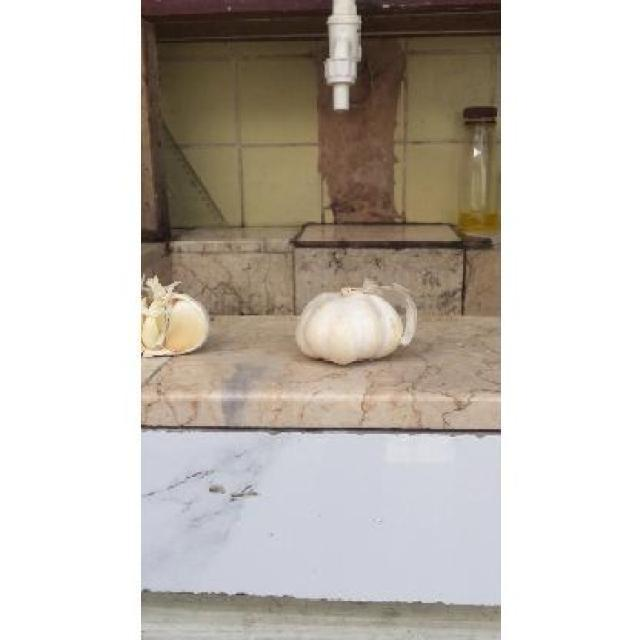garlic: (296, 281, 418, 364), (141, 276, 209, 356)
